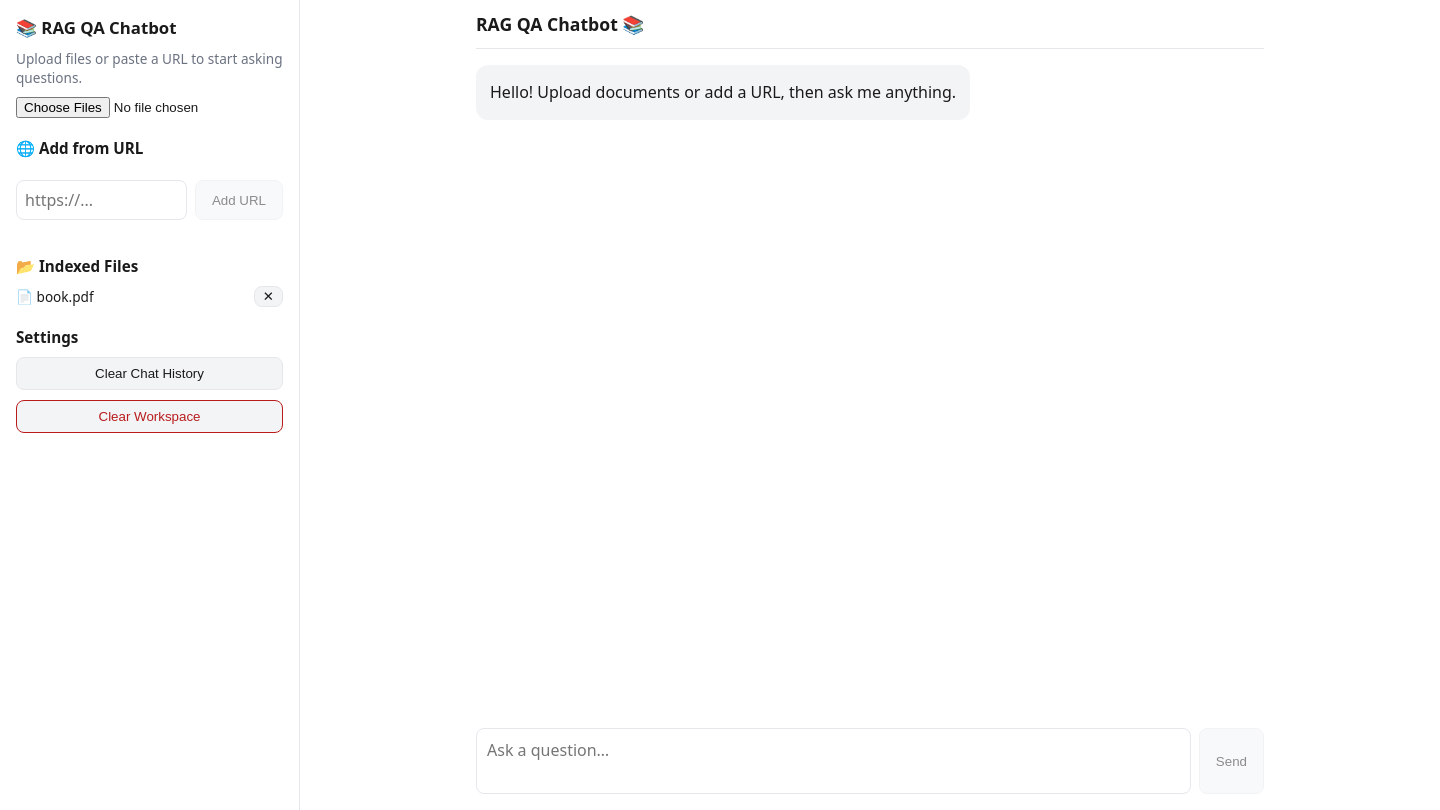
Test: App documents › removes a document and refreshes the list
Expected: the text box with placeholder "Ask a question…" is shown, [476,728,1191,794]
Click the button named "Remove book.pdf" at (268, 296), box [254,286,283,307]
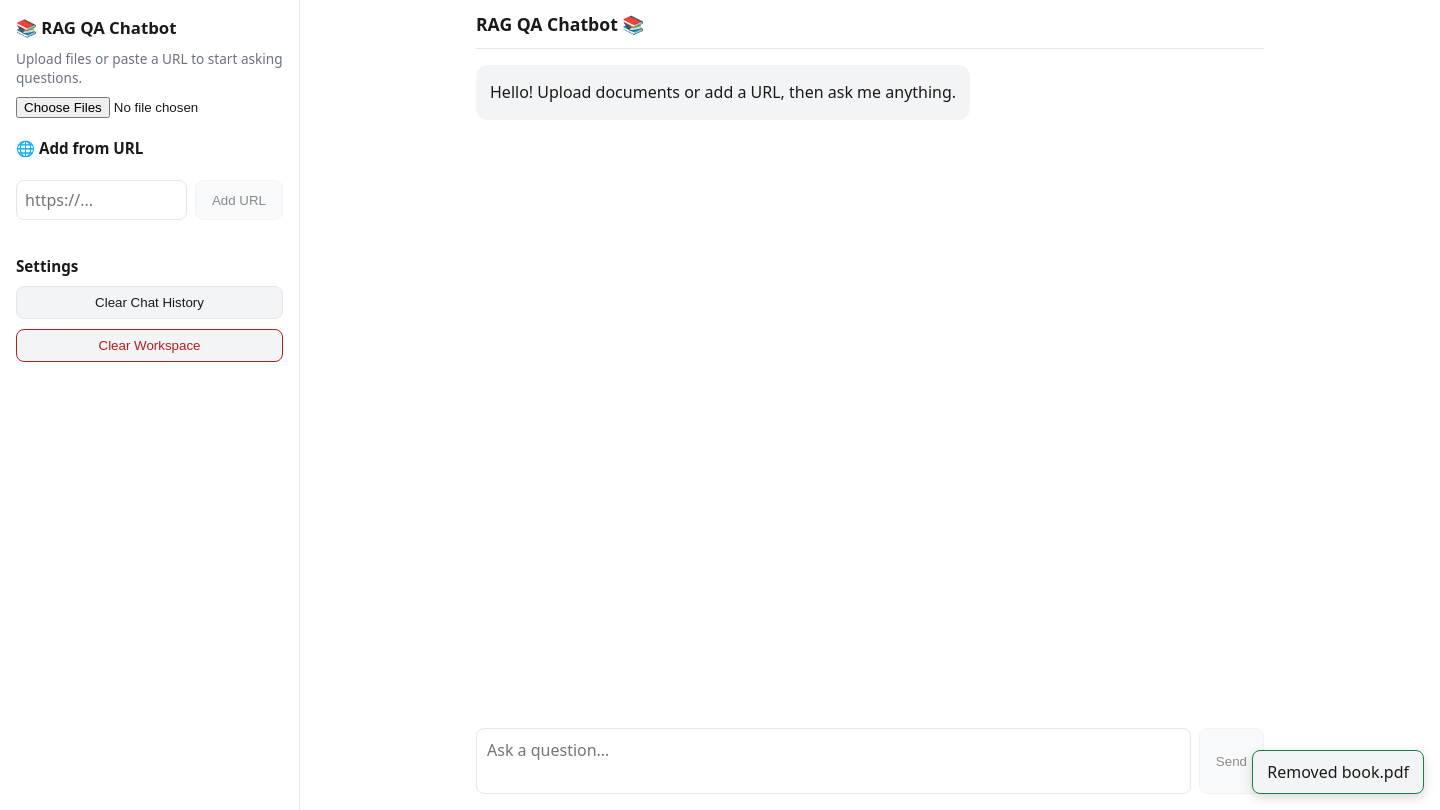
Expected: the text "Removed book.pdf" is shown, [1252,750,1424,794]
Expected: the text "📄 book.pdf" is gone
